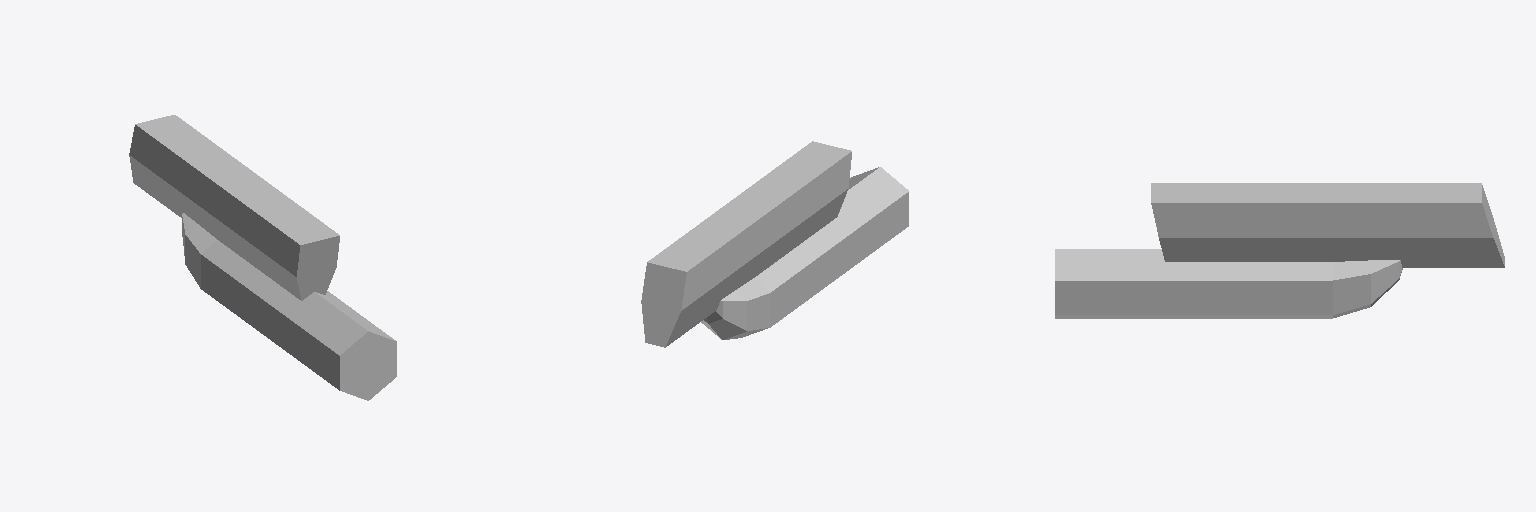
File: pump_shotgun_grip.obj
3 renders of one model, left to right at view 1: azimuth 30°, elevation 25°; view 2: azimuth 150°, elevation 25°; view 3: azimuth 270°, elevation 25°, orthographic.
Visible parts, largest first — view 1: Pump, GrenadeLauncher; view 2: Pump, GrenadeLauncher; view 3: Pump, GrenadeLauncher.
Part boxes in pixels (x1,y1,x2,y2): Pump: (129,115,339,300); GrenadeLauncher: (182,213,396,400); Pump: (641,141,851,347); GrenadeLauncher: (701,167,908,339); Pump: (1151,183,1504,267); GrenadeLauncher: (1055,249,1402,318).
Bounding box in the file's own units: 0.0866 × 0.18 × 0.585.